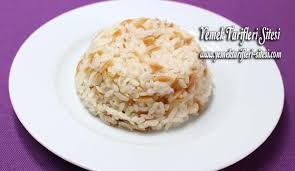pirinc_pilavi: (8, 0, 283, 170), (75, 18, 212, 132)
